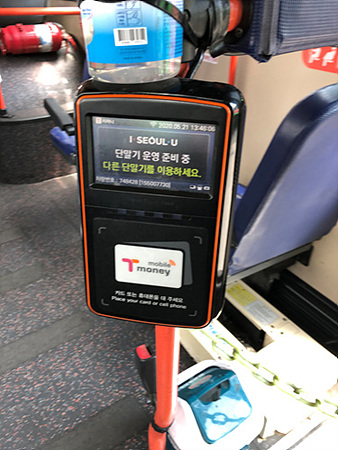terminal: (81, 77, 230, 323)
